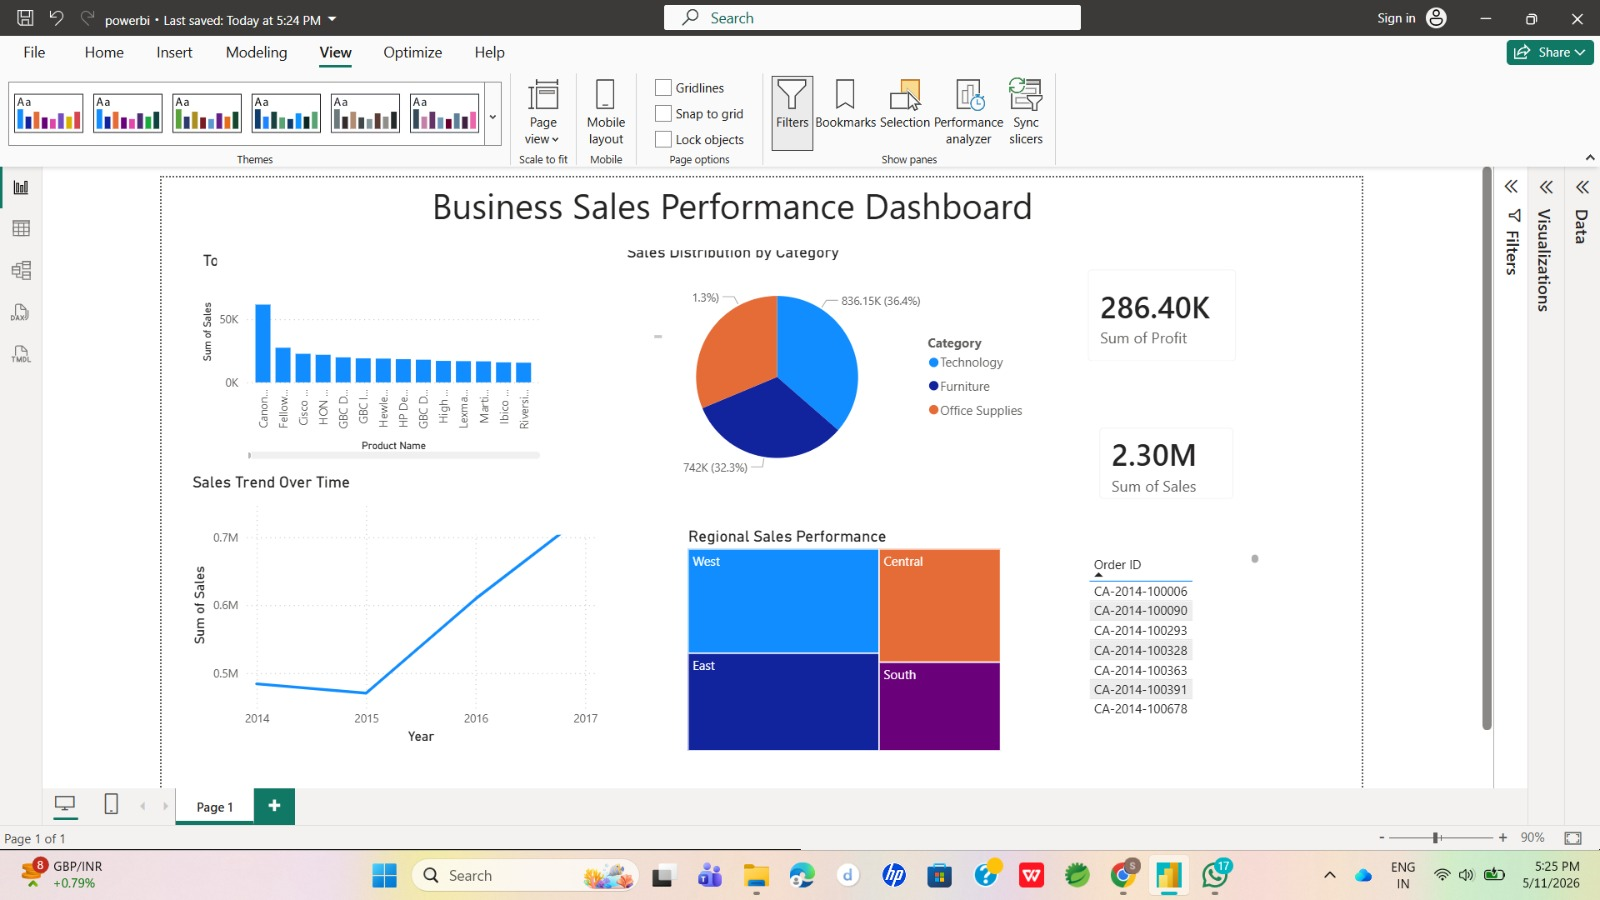

The page's visual inventory and layout, read from the dashboard file:
{"tool":"powerbi","page":{"name":"Page 1","canvas":[1280,720],"ordinal":0},"visuals":[{"type":"clusteredColumnChart","title":"Top Products by Sales","fields":{"Y":["Sum(FUTURE_DS_01_Task1_Analysis.Sales)"],"Category":["FUTURE_DS_01_Task1_Analysis.Product Name"]},"box":[38.9,77.8,370,227.8],"z":0},{"type":"lineChart","title":"Sales Trend Over Time","fields":{"Category":["FUTURE_DS_01_Task1_Analysis.Order Date.Variation.Date Hierarchy.Year","FUTURE_DS_01_Task1_Analysis.Order Date.Variation.Date Hierarchy.Quarter","FUTURE_DS_01_Task1_Analysis.Order Date.Variation.Date Hierarchy.Month","FUTURE_DS_01_Task1_Analysis.Order Date.Variation.Date Hierarchy.Day"],"Y":["Sum(FUTURE_DS_01_Task1_Analysis.Sales)"]},"box":[27.8,314.4,442.2,294.4],"z":1000},{"type":"pieChart","title":"Sales Distribution by Category","fields":{"Category":["FUTURE_DS_01_Task1_Analysis.Category"],"Y":["Sum(FUTURE_DS_01_Task1_Analysis.Sales)"]},"box":[491.1,68.9,441.1,268.9],"z":2000},{"type":"treemap","title":"Regional Sales Performance","fields":{"Group":["FUTURE_DS_01_Task1_Analysis.Region"],"Values":["Sum(FUTURE_DS_01_Task1_Analysis.Sales)"]},"box":[556.7,372.2,343.3,244.4],"z":3000},{"type":"textbox","box":[283.8,0,917.5,77.5],"z":6000},{"type":"textbox","box":[205.6,163.3,333.3,13.3],"z":6003},{"type":"textbox","box":[58.8,77.5,165,38.8],"z":6004},{"type":"textbox","box":[324.4,346.7,178.9,34.4],"z":6005},{"type":"textbox","box":[338.9,96.7,227.8,45.6],"z":6006},{"type":"cardVisual","fields":{"Data":["Sum(FUTURE_DS_01_Task1_Analysis.Sales)"]},"box":[983.3,250,177.8,110],"z":6007},{"type":"cardVisual","fields":{"Data":["Sum(FUTURE_DS_01_Task1_Analysis.Profit)"]},"box":[971.1,81.1,192.2,132.2],"z":6008},{"type":"tableEx","fields":{"Values":["FUTURE_DS_01_Task1_Analysis.Order ID"]},"box":[983.3,396.7,192.2,182.2],"z":6009}]}

Visuals, with their boxes on the page's 1280x720 design canvas (x1, y1, x2, y2). These are canvas units, not pixel positions in the 1600x900 screenshot, which may show the page scaled, cropped or inside an application window:
"Top Products by Sales" clusteredColumnChart: 39/78/409/306
"Sales Trend Over Time" lineChart: 28/314/470/609
"Sales Distribution by Category" pieChart: 491/69/932/338
"Regional Sales Performance" treemap: 557/372/900/617
textbox: 284/0/1201/78
textbox: 206/163/539/177
textbox: 59/78/224/116
textbox: 324/347/503/381
textbox: 339/97/567/142
cardVisual - Sum(FUTURE_DS_01_Task1_Analysis.Sales): 983/250/1161/360
cardVisual - Sum(FUTURE_DS_01_Task1_Analysis.Profit): 971/81/1163/213
tableEx - FUTURE_DS_01_Task1_Analysis.Order ID: 983/397/1176/579
